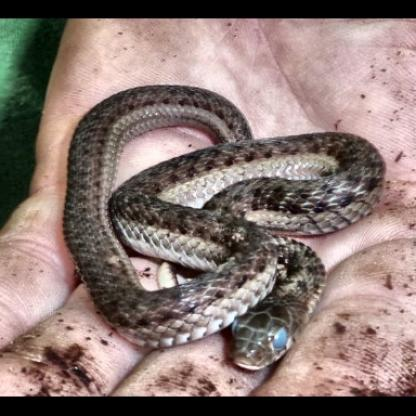Snake: (68, 80, 385, 375)
